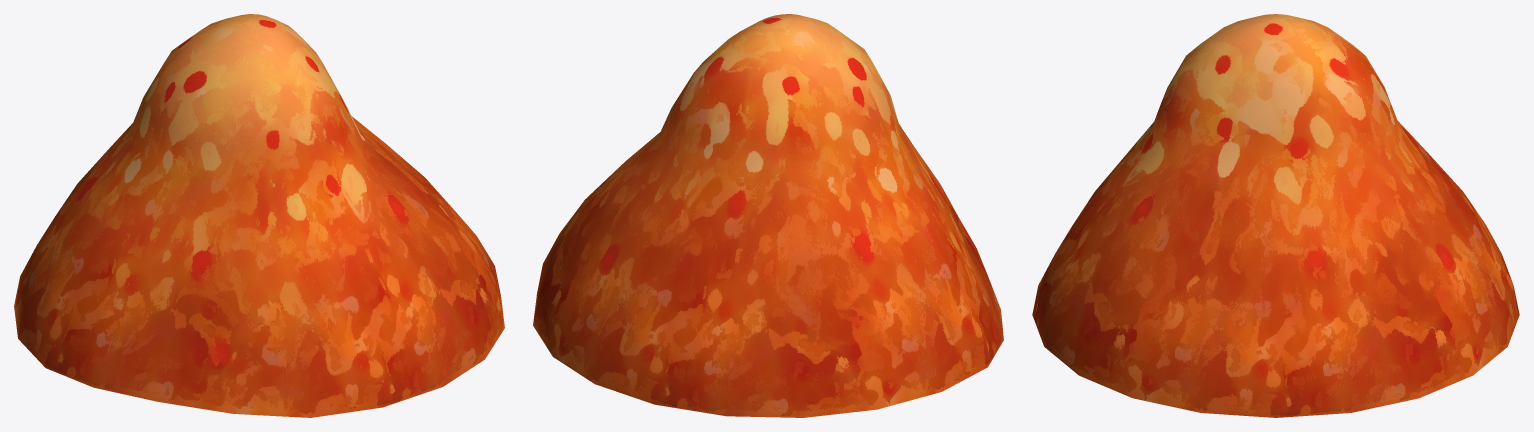
The model's file is orosi.fbx.
3 views of the same model, side by side, from view 1: azimuth 30°, elevation 25°; view 2: azimuth 150°, elevation 25°; view 3: azimuth 270°, elevation 25° (orthographic).
Visible parts, largest first — view 1: Grated__radish:orosi; view 2: Grated__radish:orosi; view 3: Grated__radish:orosi.
Boxes of the visible parts, x1,y1,x2,y2 form: Grated__radish:orosi: (14, 14, 504, 417); Grated__radish:orosi: (533, 14, 1003, 417); Grated__radish:orosi: (1032, 14, 1519, 417).
Bounding box in the file's own units: 23.71 × 15.71 × 23.77.
